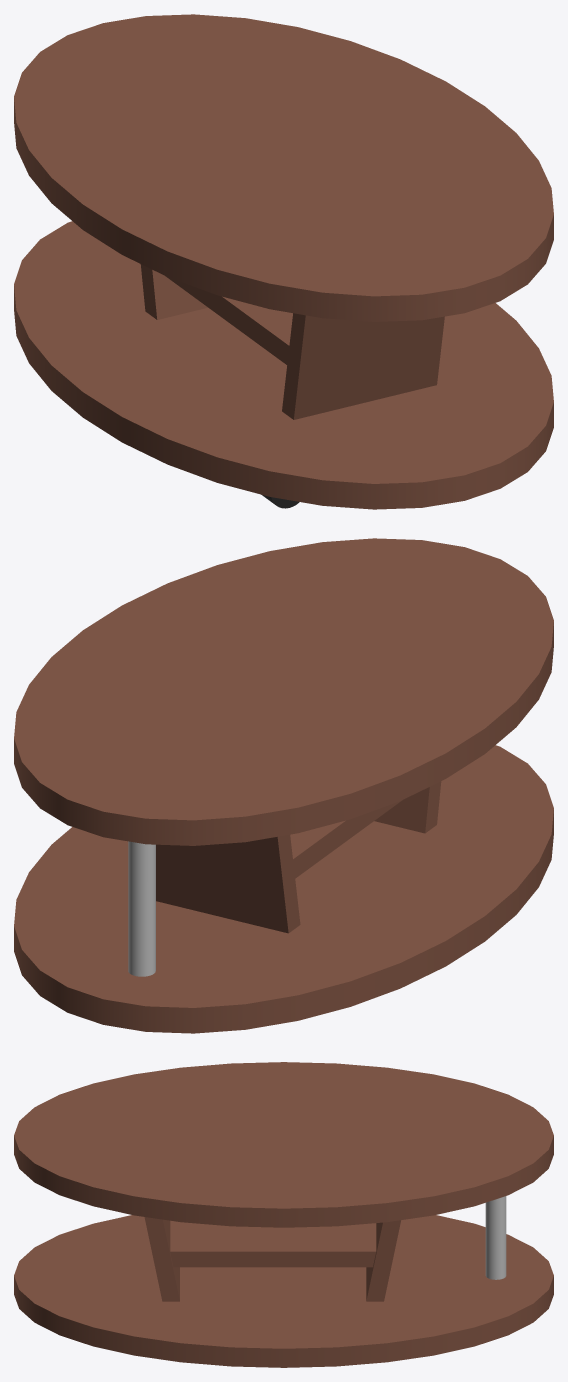
Rendered from Table 2.fbx.
3 views of the same model, one above another, from view 1: azimuth 30°, elevation 25°; view 2: azimuth 150°, elevation 25°; view 3: azimuth 270°, elevation 25° (orthographic). The views are drawn at different scales.
Parts seen in each view (by area): view 1: Table 2; view 2: Table 2; view 3: Table 2.
Boxes of the visible parts, x1=… form: Table 2: x1=14, y1=14, x2=553, y2=509; Table 2: x1=14, y1=538, x2=553, y2=1033; Table 2: x1=14, y1=1062, x2=553, y2=1367.
Bounding box in the file's own units: 159 × 97.47 × 248.
